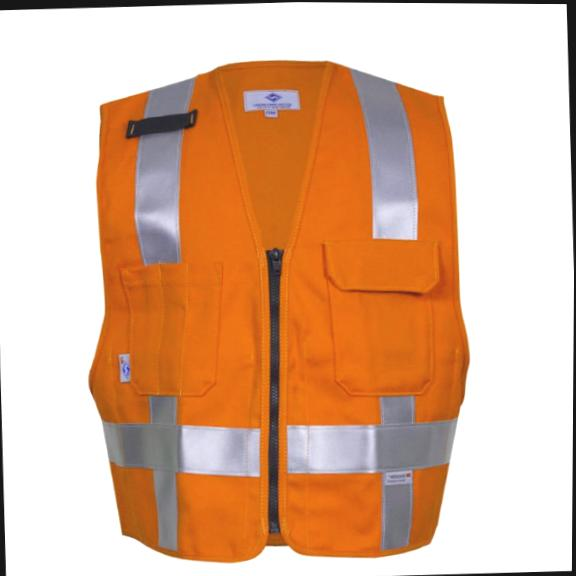safety_vest: (74, 51, 478, 569)
